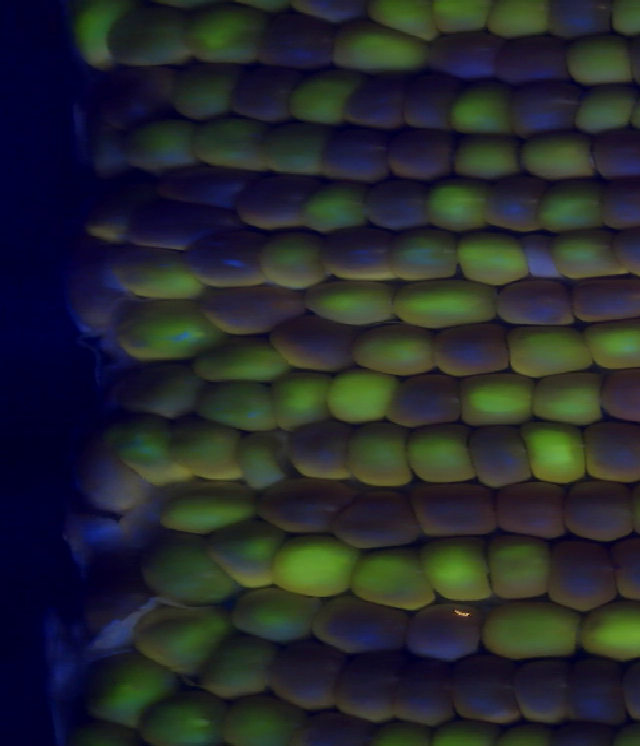fluorescent: (345, 543, 444, 620), (135, 595, 225, 669), (393, 276, 495, 331), (89, 655, 177, 718), (205, 523, 279, 594), (271, 539, 358, 598), (473, 604, 579, 649), (109, 250, 199, 301), (450, 230, 528, 288), (144, 547, 232, 598), (221, 691, 302, 746), (326, 373, 405, 429), (350, 427, 422, 487), (202, 633, 276, 691), (115, 307, 209, 352), (193, 384, 287, 429), (173, 420, 239, 484), (573, 597, 640, 660), (187, 1, 263, 55), (257, 121, 325, 181), (537, 372, 608, 429), (309, 278, 393, 326), (155, 487, 258, 526), (142, 695, 220, 746), (197, 333, 283, 379), (128, 114, 196, 172), (174, 60, 247, 113), (479, 533, 541, 594), (466, 371, 537, 424), (519, 424, 587, 479), (428, 534, 484, 600), (70, 2, 122, 72), (145, 407, 187, 491), (274, 363, 332, 423), (509, 334, 587, 378), (544, 181, 602, 237), (329, 42, 426, 75), (358, 1, 435, 42), (306, 179, 368, 229), (419, 430, 473, 487), (237, 585, 312, 626), (234, 429, 292, 482), (363, 326, 428, 372), (393, 236, 463, 278), (192, 126, 257, 169), (583, 317, 640, 366), (553, 237, 622, 276), (529, 140, 593, 181), (563, 40, 635, 76), (432, 172, 486, 220), (293, 85, 354, 127), (570, 89, 626, 134), (268, 233, 316, 285), (458, 136, 522, 173), (448, 89, 506, 127), (489, 1, 549, 37), (435, 1, 491, 36), (605, 1, 640, 30)
nonfluorescent: (313, 595, 409, 653), (392, 642, 454, 727), (335, 485, 415, 550), (458, 423, 537, 488), (451, 653, 519, 726), (418, 484, 499, 543), (403, 594, 476, 659), (493, 482, 570, 543), (247, 10, 332, 65), (555, 473, 632, 531), (197, 221, 264, 287), (197, 289, 297, 333), (331, 650, 396, 717), (550, 540, 615, 607), (425, 321, 500, 378), (509, 82, 583, 139), (263, 316, 342, 368), (496, 272, 566, 330), (270, 639, 331, 705), (115, 11, 192, 63), (231, 66, 303, 121), (264, 478, 331, 537), (422, 33, 499, 82), (161, 165, 242, 211), (522, 650, 568, 731), (390, 376, 463, 426), (566, 272, 640, 321), (568, 652, 616, 727), (580, 418, 640, 478), (396, 76, 458, 133), (247, 171, 306, 230), (326, 129, 395, 179), (129, 362, 190, 418), (325, 229, 387, 281), (137, 208, 226, 243), (67, 273, 118, 334), (347, 68, 405, 121), (390, 129, 451, 179), (284, 421, 345, 471), (596, 365, 640, 424), (492, 176, 541, 226), (548, 1, 616, 37), (361, 178, 425, 216), (499, 42, 555, 84), (597, 176, 640, 229), (597, 133, 640, 176)
